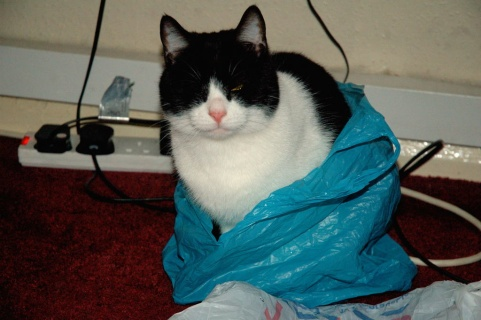Cat: (140, 0, 356, 239)
